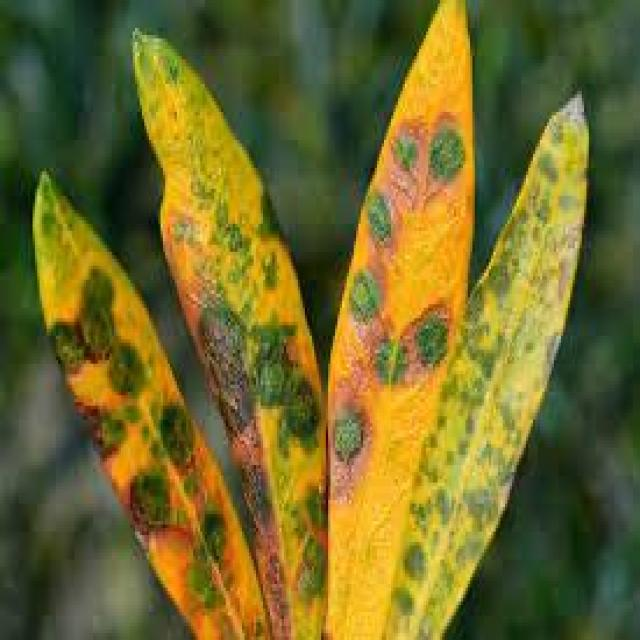Peacock Eye: (135, 28, 323, 637), (386, 94, 586, 637), (35, 171, 268, 637), (326, 0, 472, 637)
